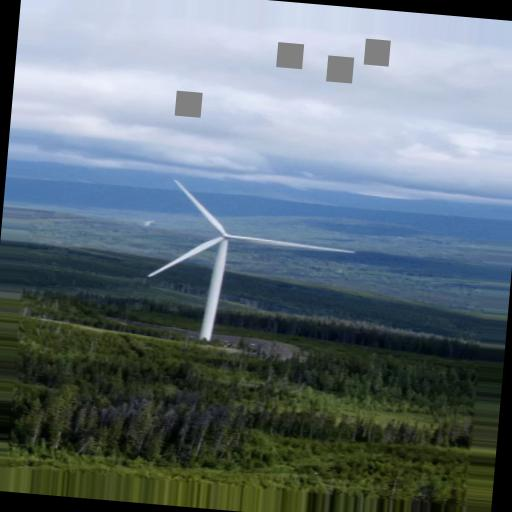wind turbine: (147, 179, 356, 343)
